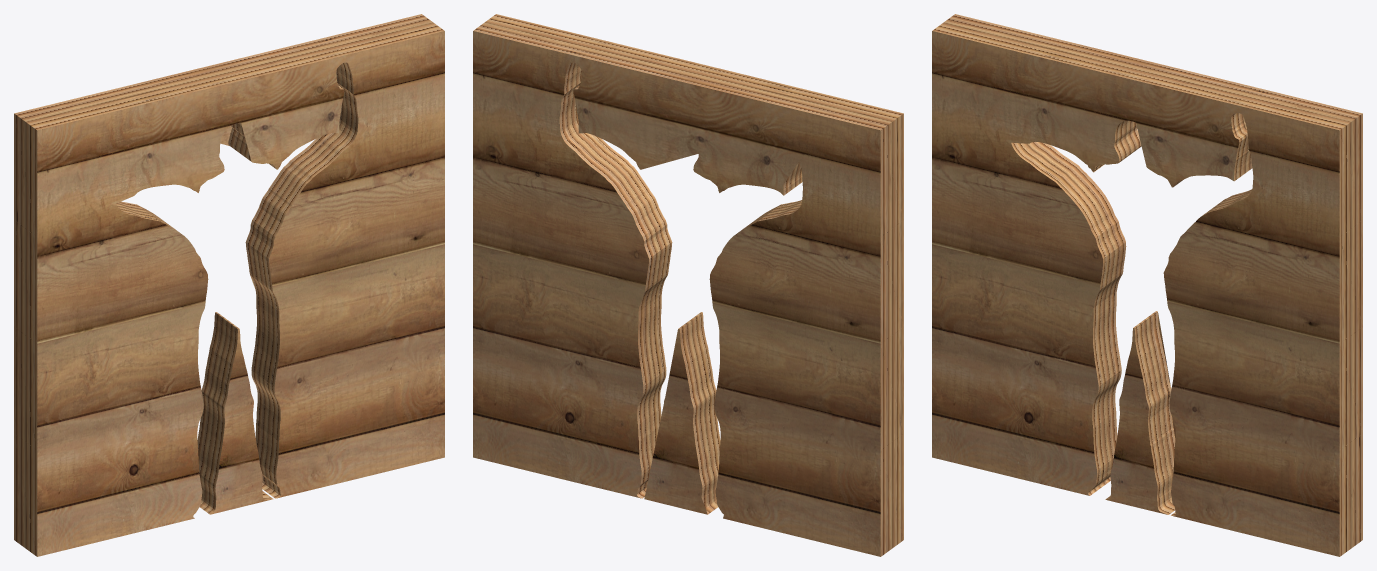
File: touchdown.FBX
The picture shows the model from 3 angles, left to right: view 1: azimuth 30°, elevation 25°; view 2: azimuth 150°, elevation 25°; view 3: azimuth 330°, elevation 25°; orthographic projection.
Parts seen in each view (by area): view 1: Object001; view 2: Object001; view 3: Object001.
Boxes of the visible parts, x1,y1,x2,y2 form: Object001: (14,14,444,556); Object001: (473,14,903,556); Object001: (932,14,1362,556).
Size of the model in its own units: 2 by 2 by 0.1959.
1 material, 1 textured.
